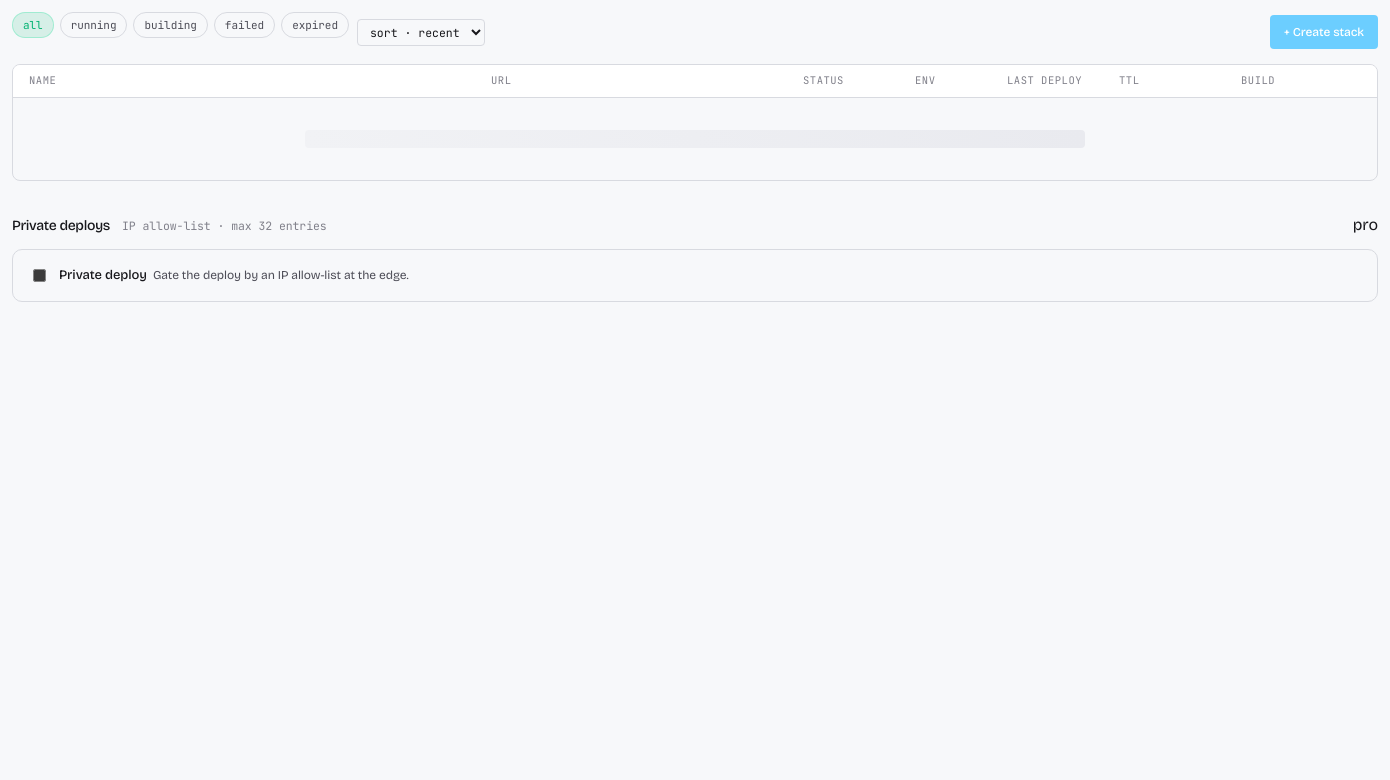
Test case: DeploymentsPage — private deploy section, tier-gated › toggling Private on reveals the IP allow-list input
Expected: the element with test id "private-deploy-configurator" is shown, [12,249,1378,302]
Click the checkbox with test id "private-toggle" at (40, 276), box [33,269,46,282]
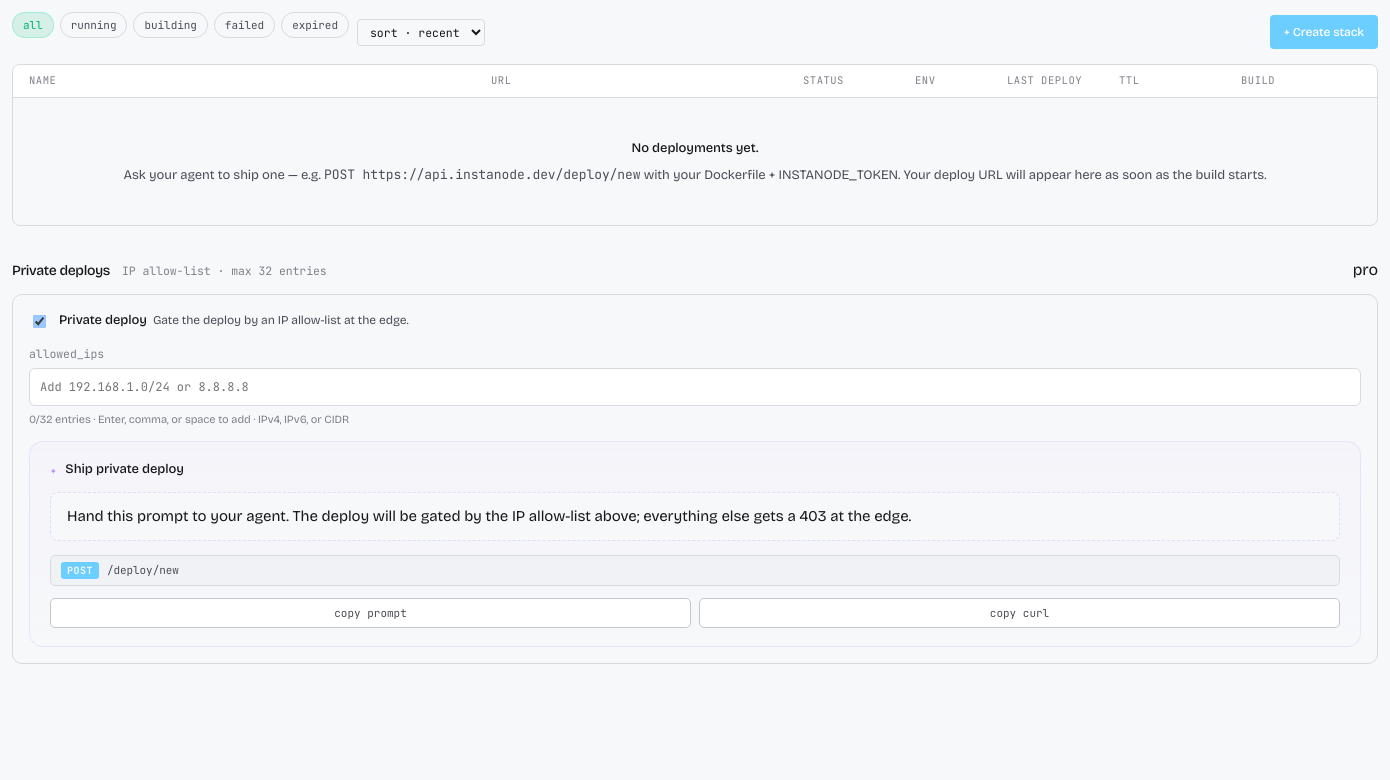
Result: the checkbox with test id "private-toggle" is checked at [33,315,46,328]
Result: the element with test id "private-ip-input-wrap" is shown at [29,345,1361,427]
Result: the element with test id "ip-allow-list" is shown at [29,368,1361,428]
